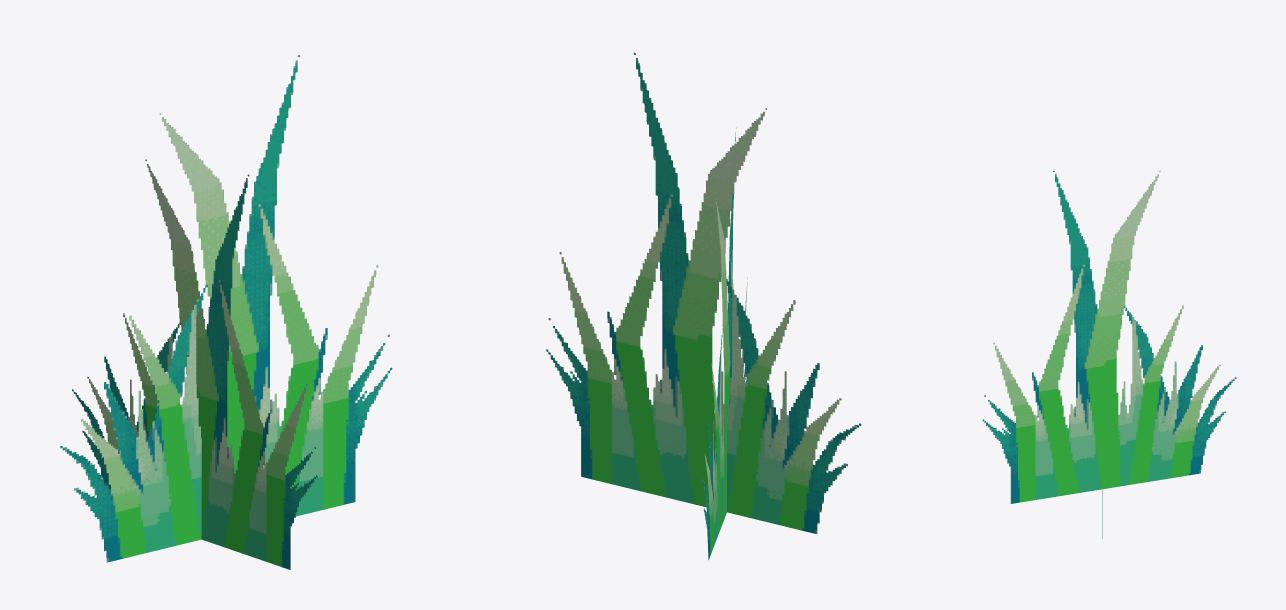
Rendered from MikeGrass.fbx.
3 renders of one model, left to right at view 1: azimuth 30°, elevation 25°; view 2: azimuth 150°, elevation 25°; view 3: azimuth 270°, elevation 25°, orthographic. The views are drawn at different scales.
Parts seen in each view (by area): view 1: Plane, Plane.001; view 2: Plane, Plane.001; view 3: Plane.001.
Boxes of the visible parts, left/top/right/bottom form: Plane: left=60, top=55, right=392, bottom=562; Plane.001: left=72, top=159, right=317, bottom=569; Plane: left=546, top=52, right=861, bottom=533; Plane.001: left=701, top=127, right=747, bottom=560; Plane.001: left=982, top=170, right=1236, bottom=503.
Bounding box in the file's own units: 200 × 200 × 155.
